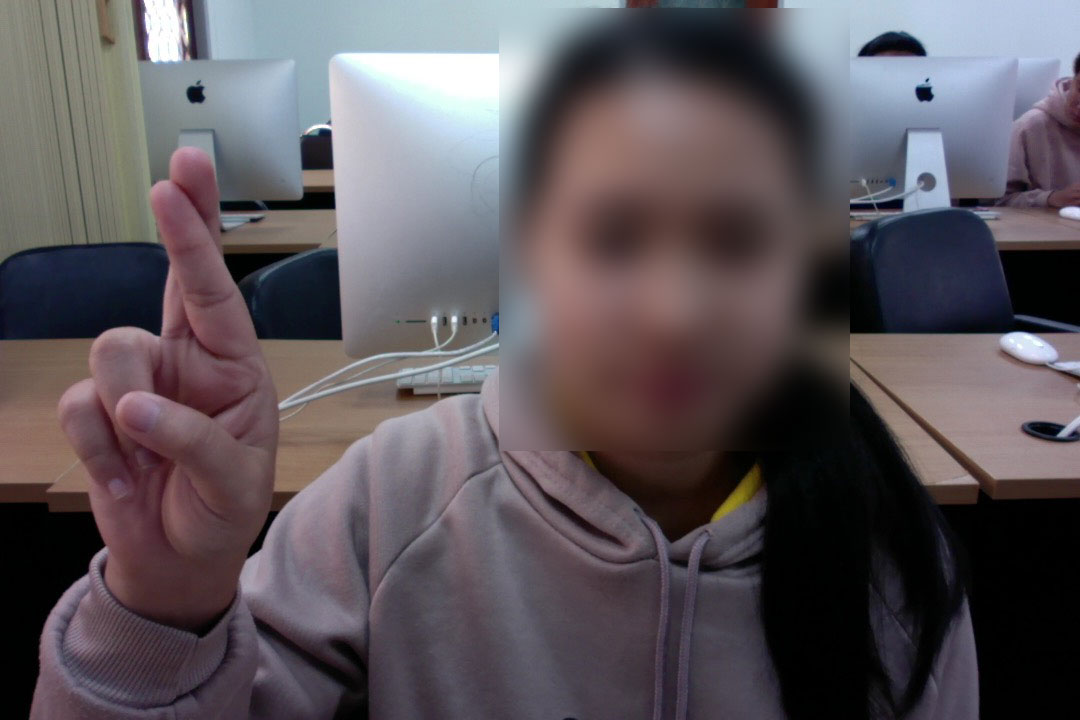rao: (59, 143, 279, 564)
